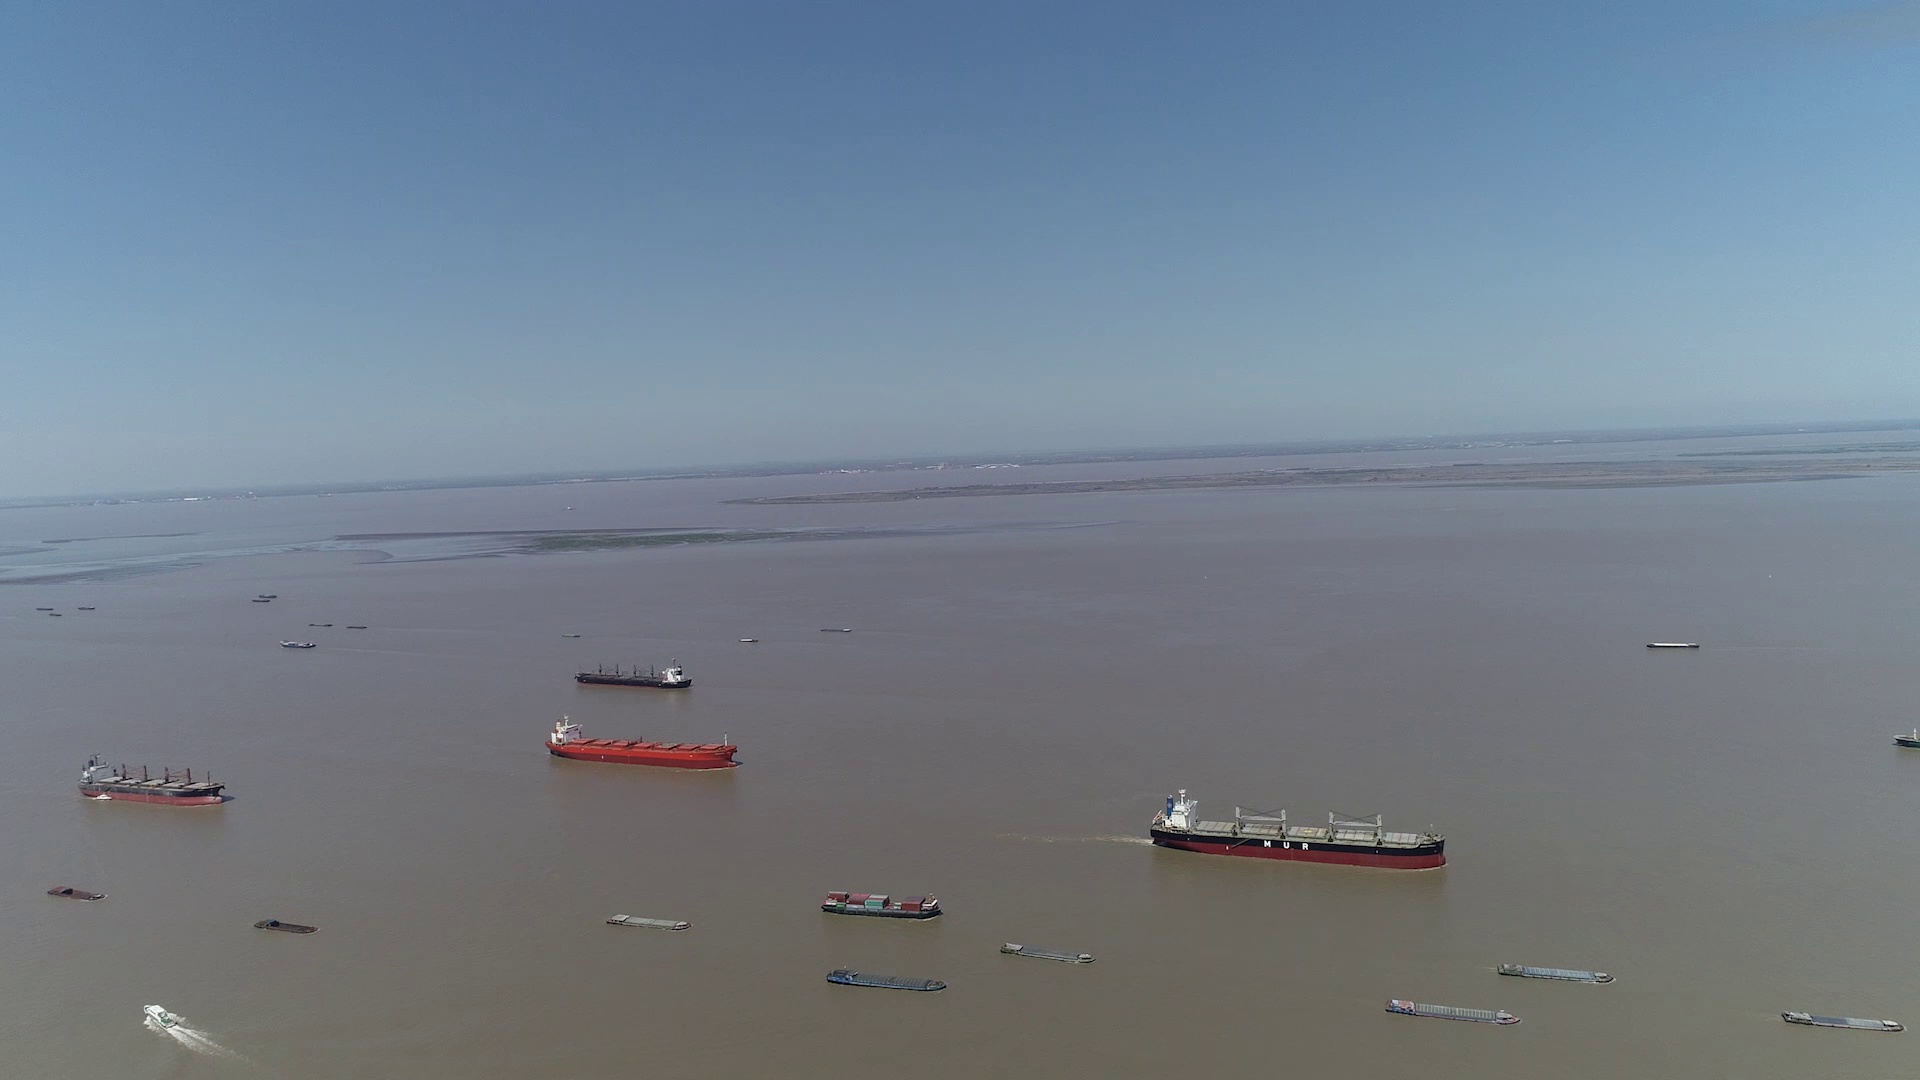ship: (1151, 790, 1447, 869), (547, 713, 738, 767), (76, 752, 228, 807), (820, 890, 943, 920), (1387, 997, 1520, 1025), (576, 659, 691, 687), (1779, 1007, 1905, 1033), (825, 967, 945, 992), (1495, 963, 1615, 984), (1002, 942, 1095, 963), (603, 913, 694, 931), (258, 918, 320, 934), (44, 887, 105, 901), (142, 1005, 173, 1029), (1894, 727, 1919, 749), (277, 637, 318, 649), (1646, 640, 1698, 647)
